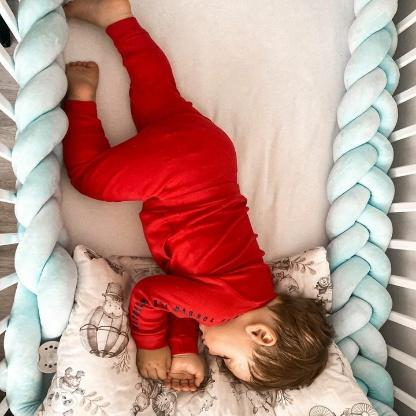baby: (60, 0, 329, 393)
